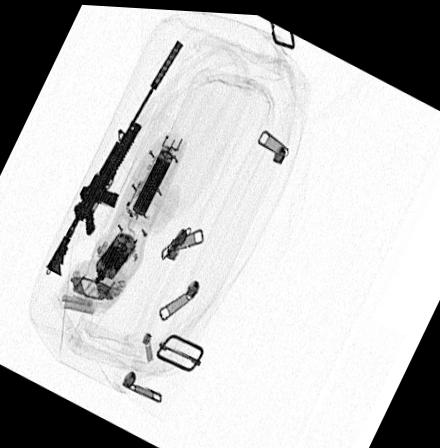Gun: (45, 36, 186, 278)
